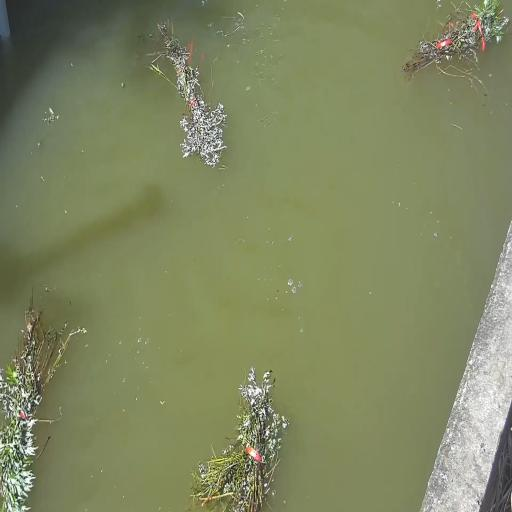twig: (0, 286, 86, 512), (187, 364, 288, 512), (144, 17, 227, 167), (400, 1, 509, 88)
